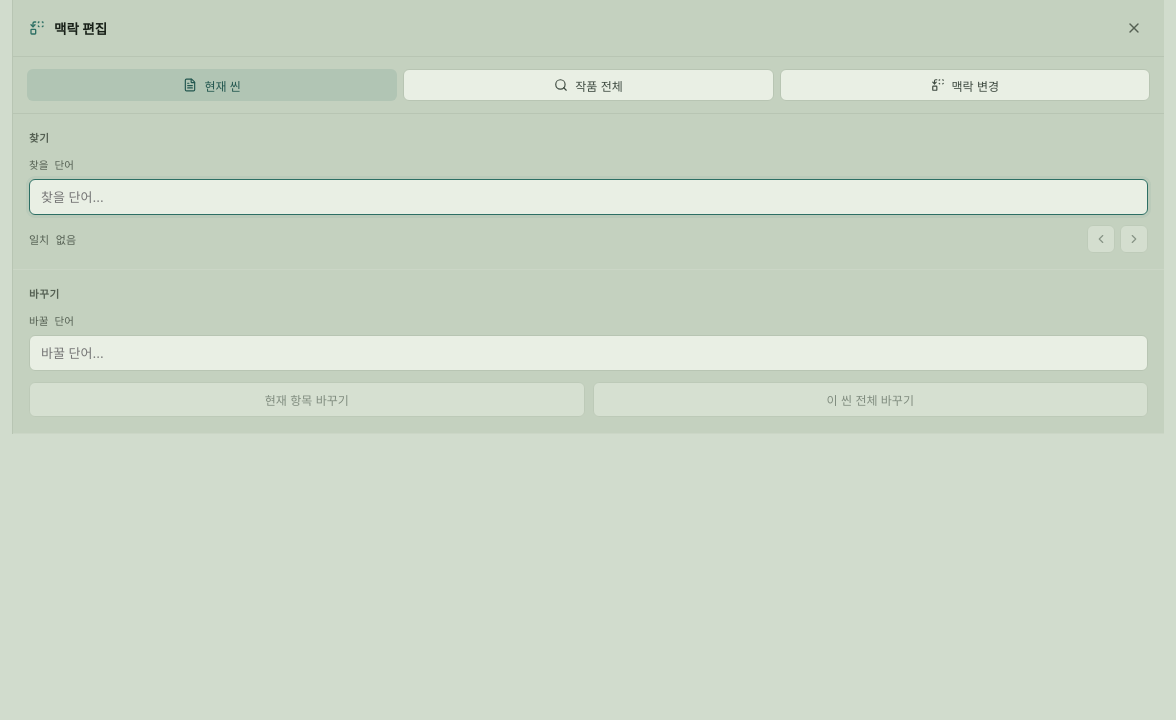
Test: ContextualEditPanel › previews and applies whole-work replace candidates
Step 1. Click the tab "작품 전체" → (588, 85), box left=403, top=69, right=774, bottom=101
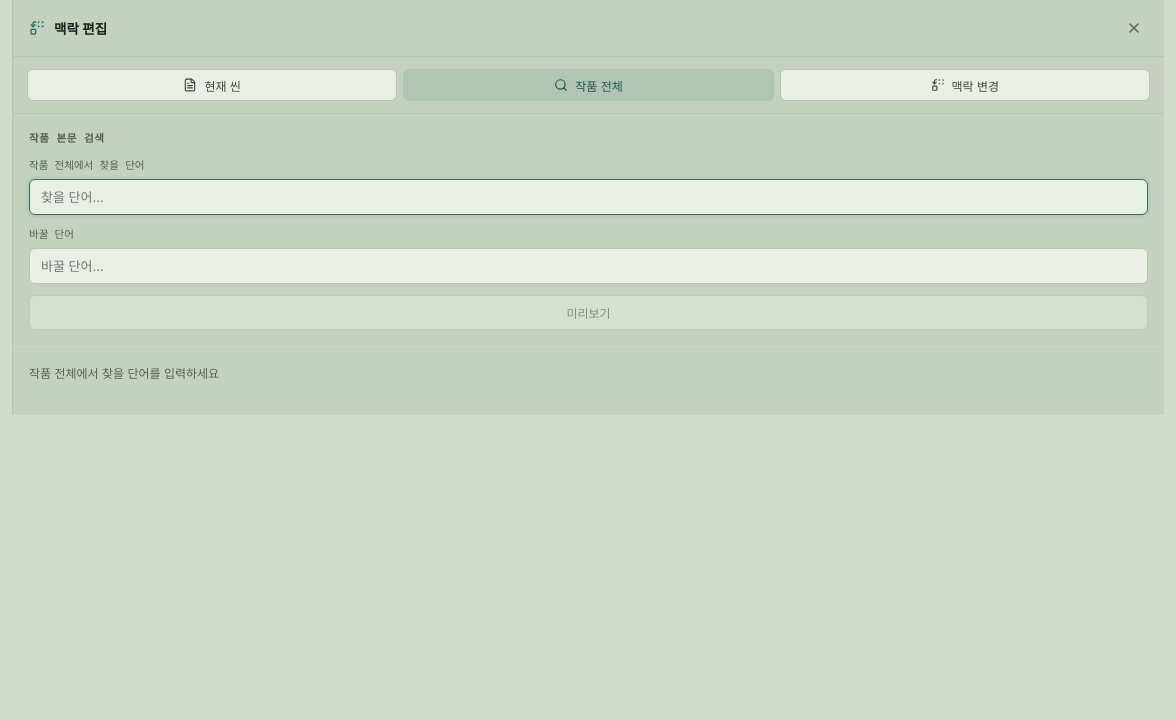
Step 2. Type "열쇠" into the field labelled "작품 전체에서 찾을 단어" → (588, 197), box left=29, top=179, right=1148, bottom=215
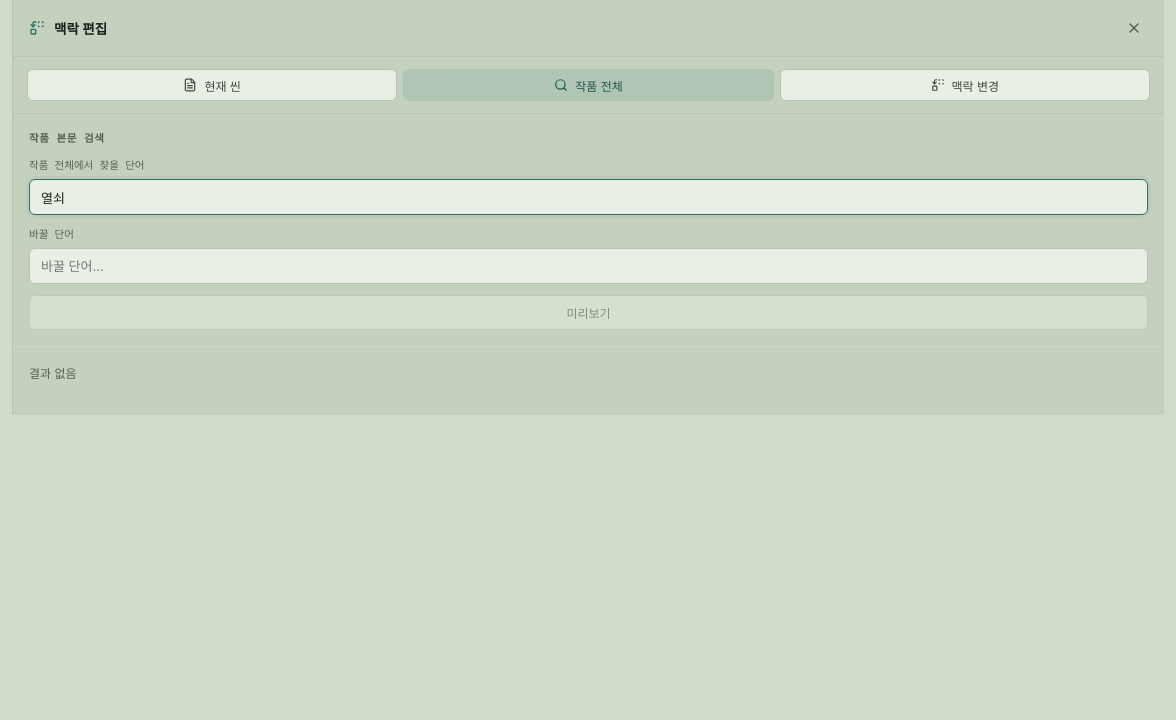
Step 3. Type "반지" into the field labelled "바꿀 단어" → (588, 266), box left=29, top=248, right=1148, bottom=284
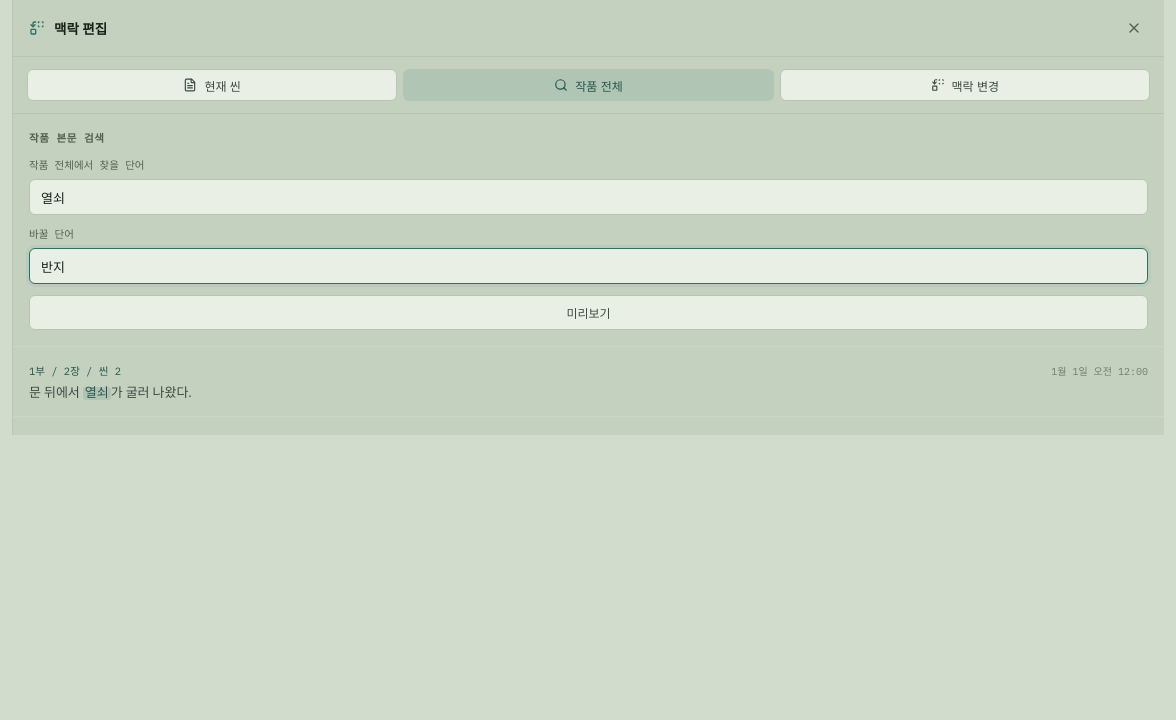
Step 4. Click the button "미리보기" → (588, 312), box left=29, top=295, right=1148, bottom=330
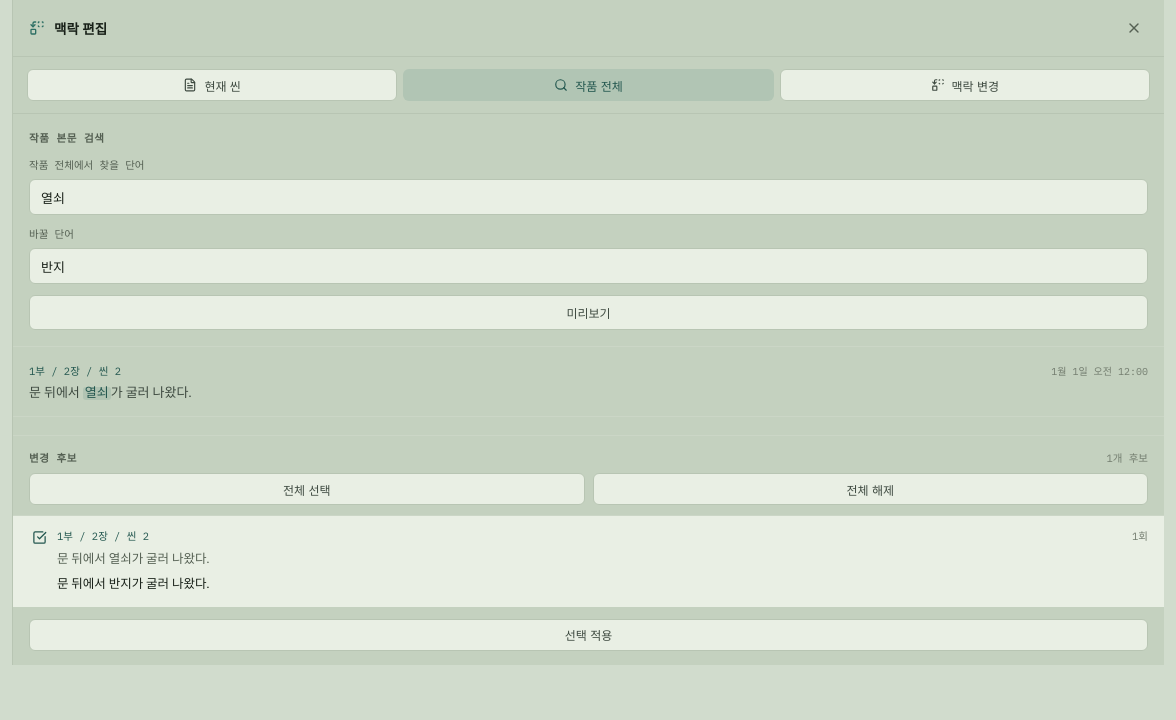
Check: the text "문 뒤에서 반지가 굴러 나왔다." is shown, box left=57, top=579, right=209, bottom=591
Step 5. Click the button "선택 적용" → (588, 635), box left=29, top=619, right=1148, bottom=651
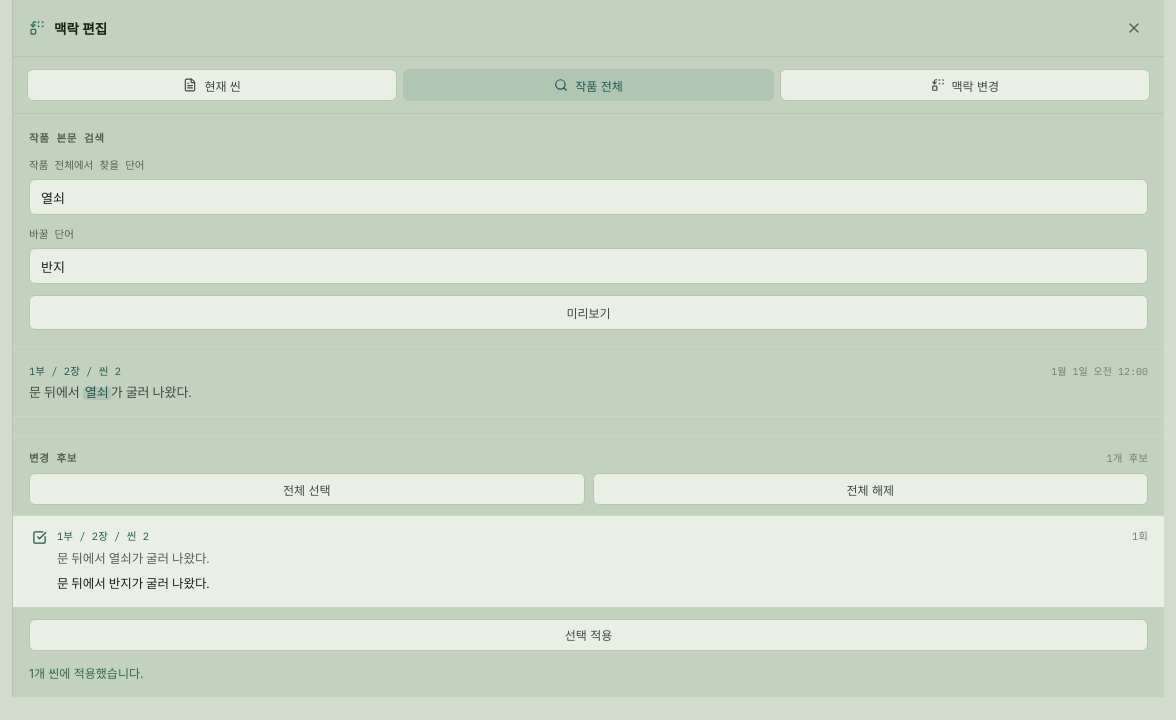
Check: the text "1개 씬에 적용했습니다." is shown, box left=29, top=666, right=144, bottom=681
